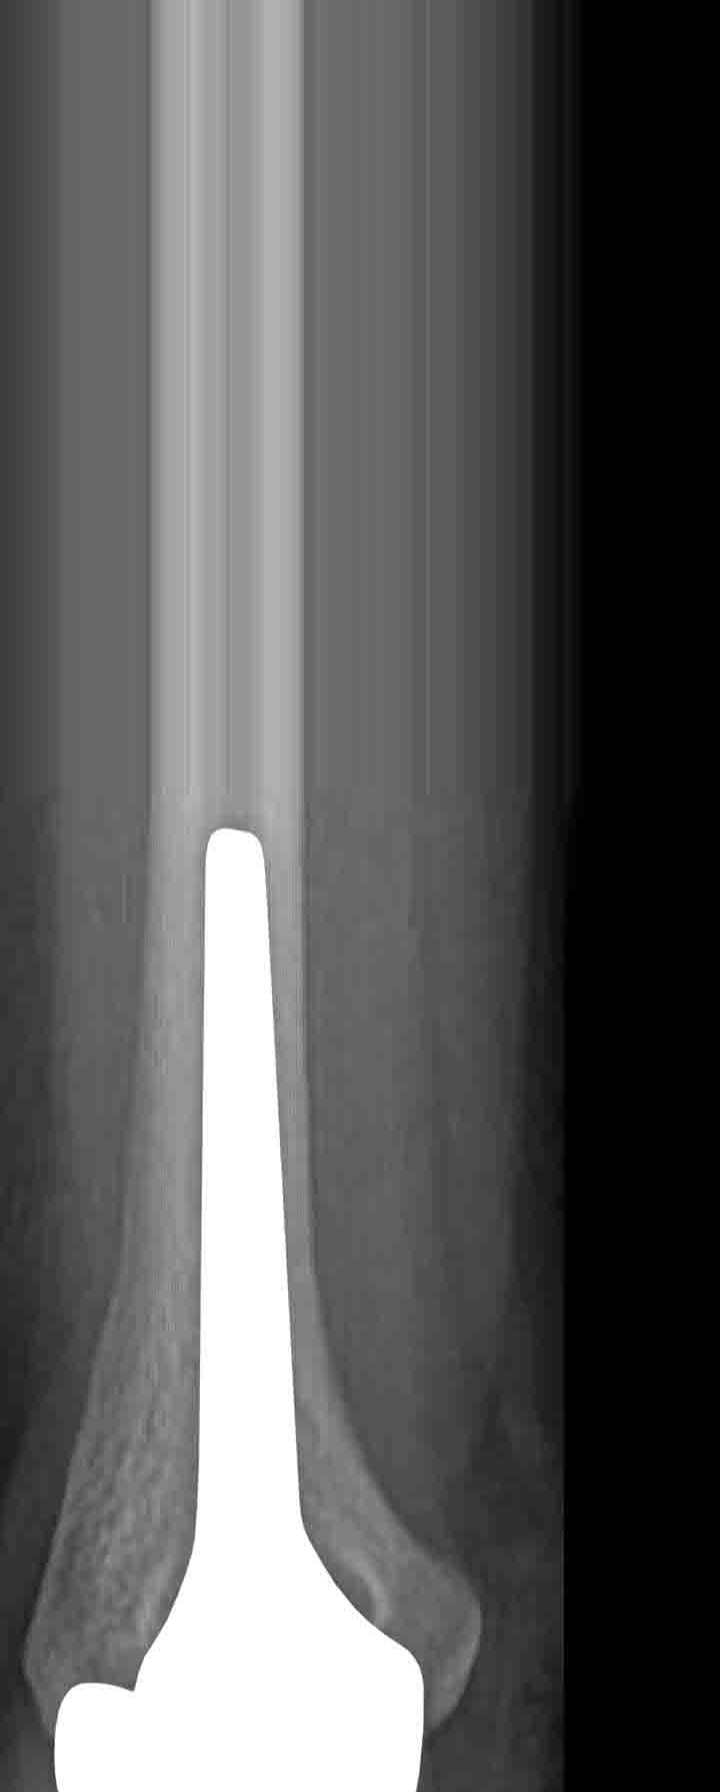Elbow - IBP - Biomet: (21, 779, 453, 1792)
